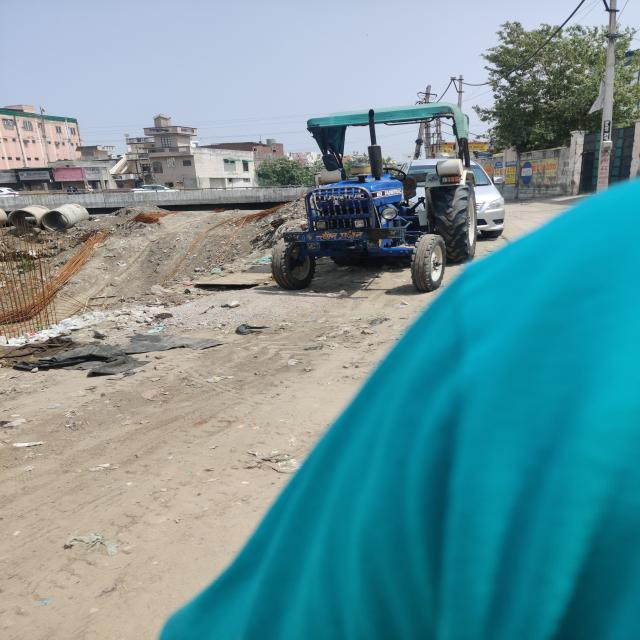car_front: (404, 153, 510, 239)
tractor_front: (264, 99, 483, 302)
